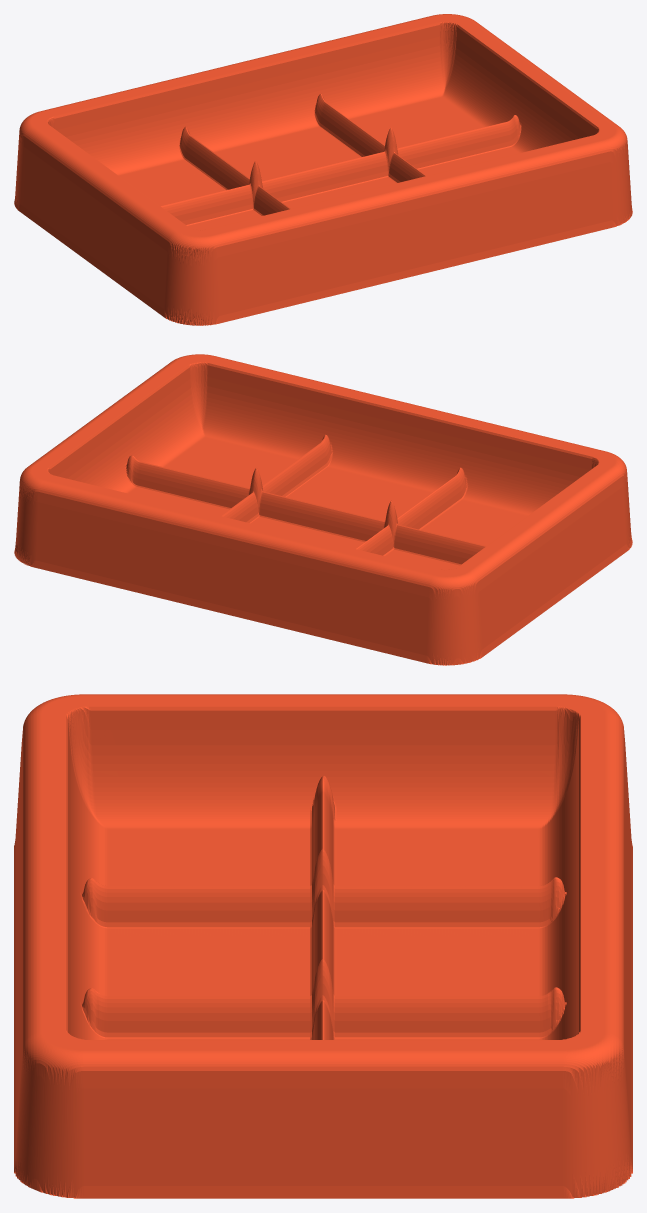
File: mold.glb
3 renders of one model, top to bottom at view 1: azimuth 30°, elevation 25°; view 2: azimuth 150°, elevation 25°; view 3: azimuth 270°, elevation 25°, orthographic. The views are drawn at different scales.
Visible parts, largest first — view 1: geometry_0; view 2: geometry_0; view 3: geometry_0.
Part boxes in pixels (box(x1,y1,x2,y2)): geometry_0: box(14, 14, 632, 325); geometry_0: box(14, 354, 632, 665); geometry_0: box(14, 694, 632, 1198).
Bounding box in the file's own units: 0.1158 × 0.0195 × 0.0802.
